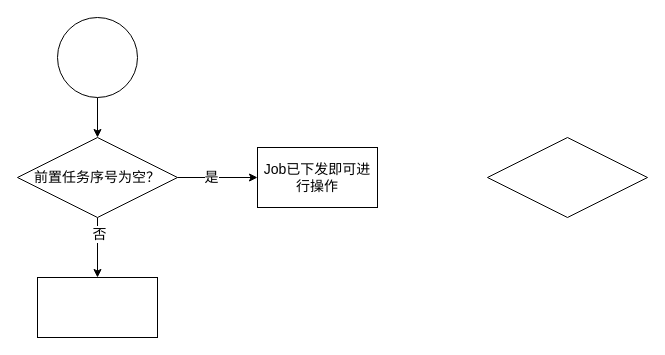
This 665x355 diagram has some shape labels left out. The shapes that lost their labels are listed below. From the top down, each one's centre as x and y in pixels, then its label:
At [97,57]: "开始".
At [567,177]: "前置时间不为空".
